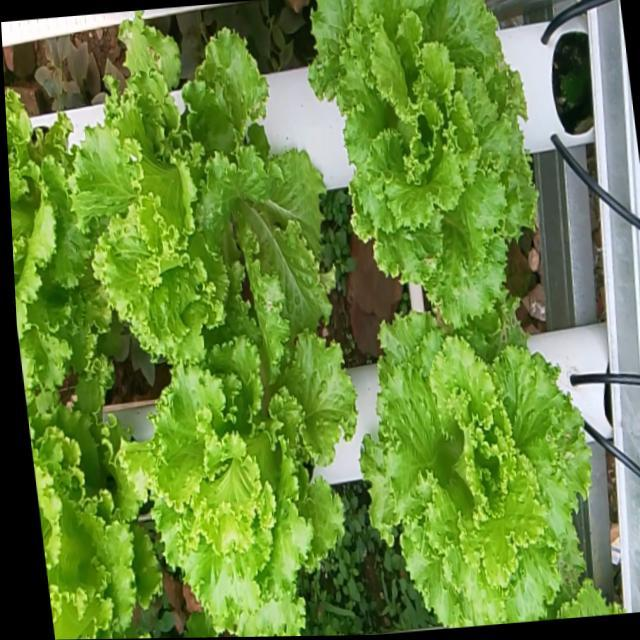Mature: (50, 11, 326, 370), (301, 0, 537, 346), (353, 306, 603, 626), (97, 329, 349, 638)
